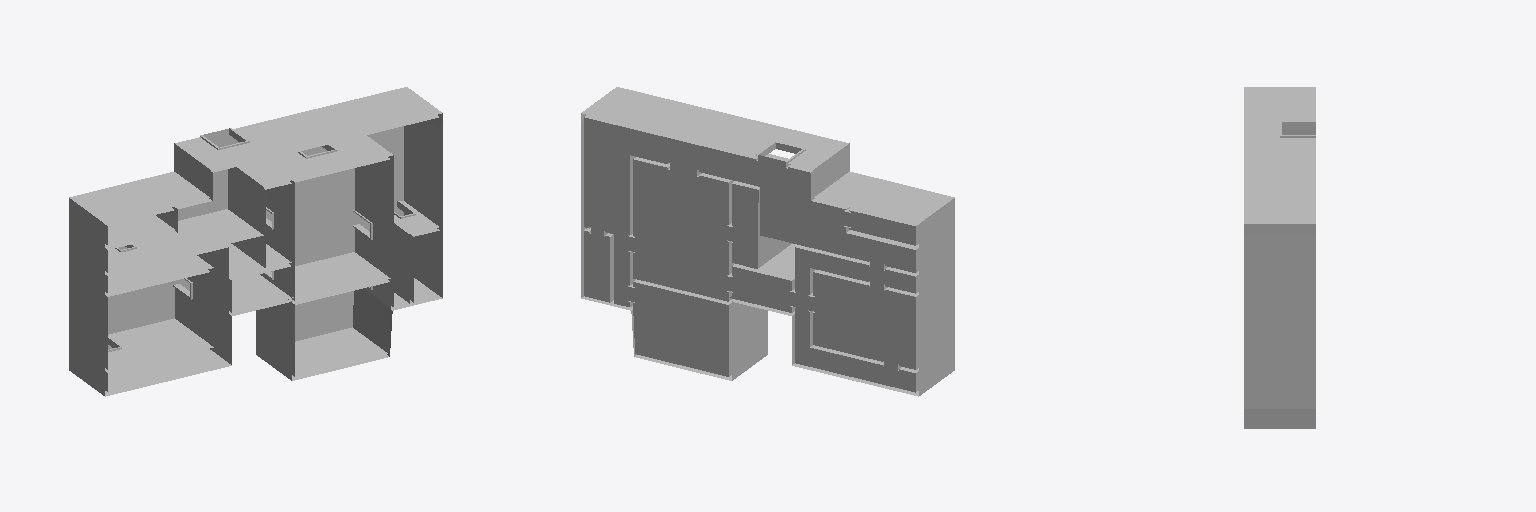
Rendered from 1stFloor - Copy.obj.
The picture shows the model from 3 angles: view 1: azimuth 30°, elevation 25°; view 2: azimuth 150°, elevation 25°; view 3: azimuth 270°, elevation 25°; orthographic projection.
Size of the model in its own units: 215 by 142 by 40.